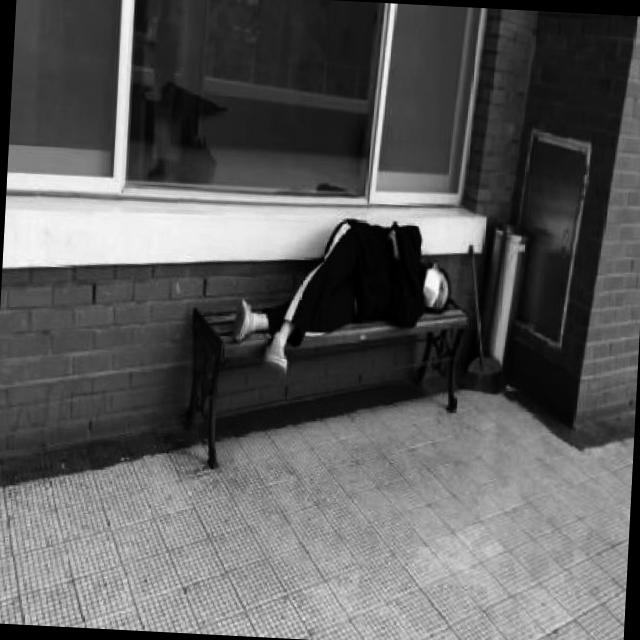person: (228, 213, 457, 384)
